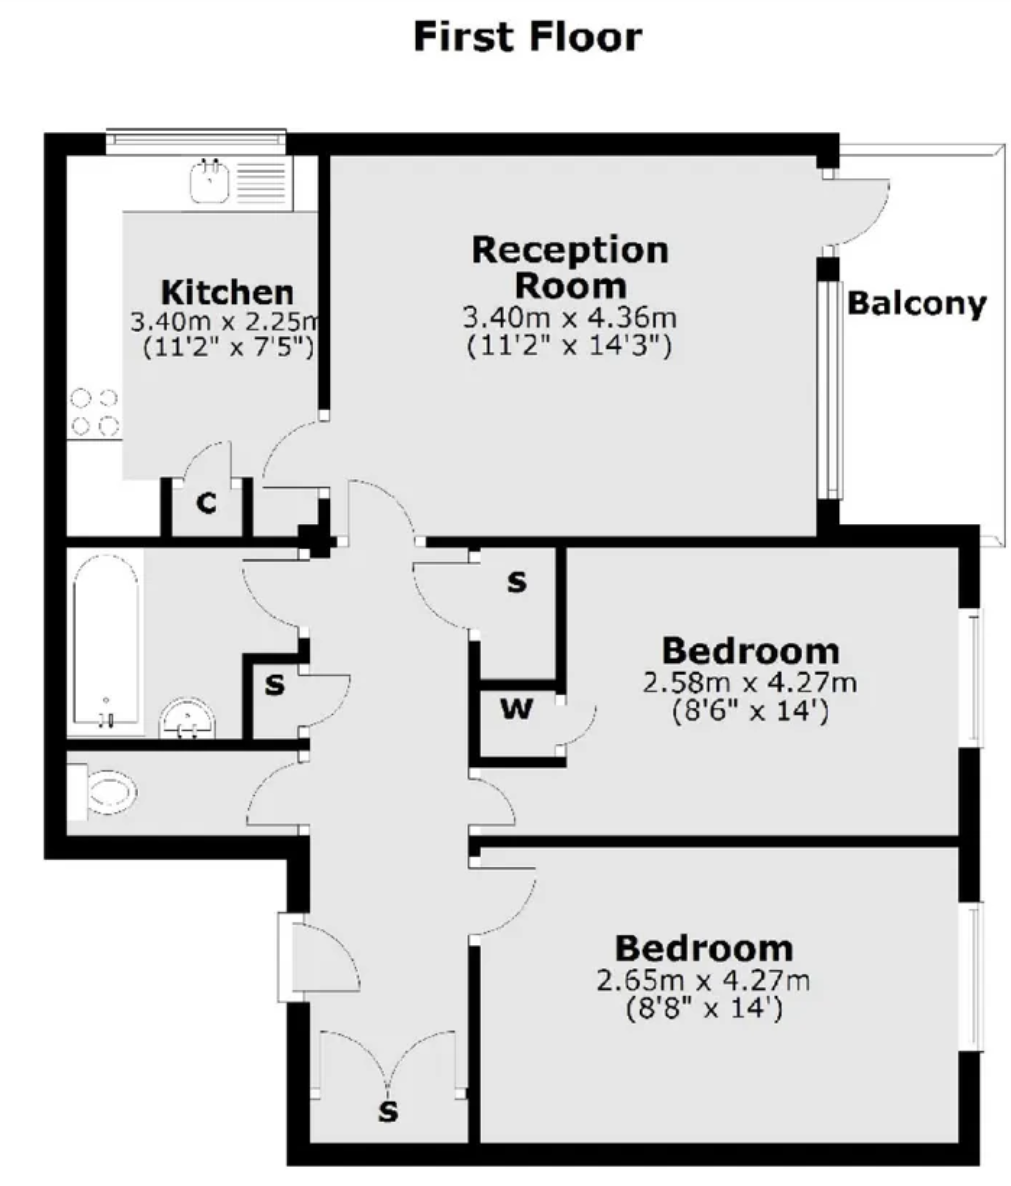bathtub: (68, 546, 145, 738)
door: (276, 910, 367, 1003), (465, 856, 542, 946), (818, 167, 894, 255), (307, 1023, 387, 1103), (387, 1020, 464, 1102), (263, 413, 333, 499), (242, 747, 309, 835), (411, 553, 479, 640), (242, 551, 310, 637), (337, 479, 424, 545), (298, 664, 352, 738), (173, 438, 240, 490), (467, 767, 519, 833), (553, 691, 597, 757)
sink: (193, 160, 293, 210), (154, 694, 218, 739)
toilet: (67, 762, 136, 826)
window: (815, 280, 844, 500), (108, 128, 290, 161), (955, 603, 984, 749), (957, 903, 983, 1051)
